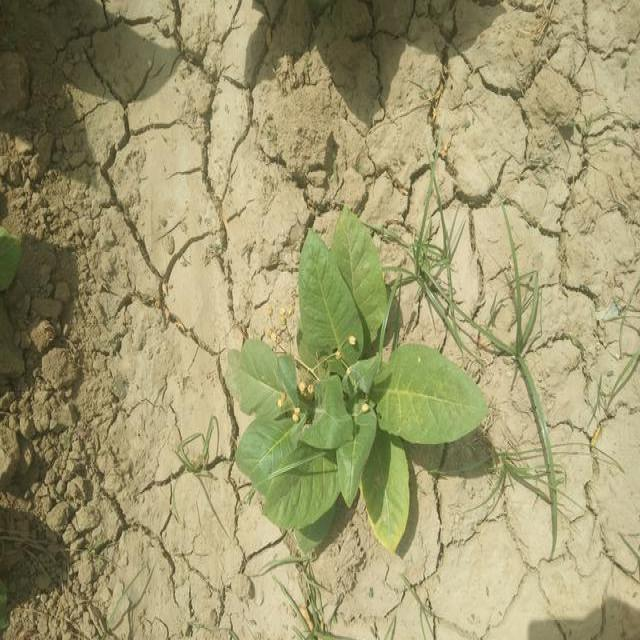crop: (223, 219, 492, 539)
